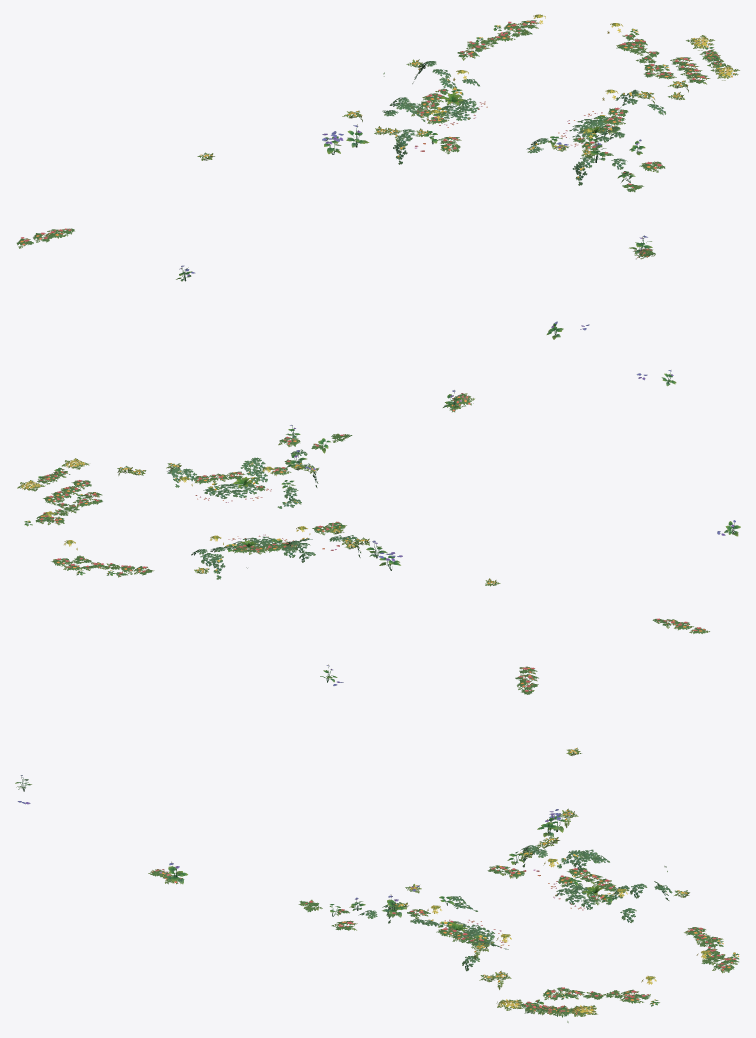
The model's file is pref_sm_garden_plan_vertexcolor_02_lv2.fbx.
3 renders of one model, top to bottom at view 1: azimuth 30°, elevation 25°; view 2: azimuth 150°, elevation 25°; view 3: azimuth 270°, elevation 25°, orthographic. The views are drawn at different scales.
Parts seen in each view (by area): view 1: pref_sm_garden_plan_vertexcolor_02_lv2; view 2: pref_sm_garden_plan_vertexcolor_02_lv2; view 3: pref_sm_garden_plan_vertexcolor_02_lv2.
Boxes of the visible parts, x1,y1,x2,y2 form: pref_sm_garden_plan_vertexcolor_02_lv2: [16, 14, 739, 339]; pref_sm_garden_plan_vertexcolor_02_lv2: [17, 370, 740, 633]; pref_sm_garden_plan_vertexcolor_02_lv2: [15, 664, 739, 1022].
Bounding box in the file's own units: 59.67 × 3.82 × 50.93.
